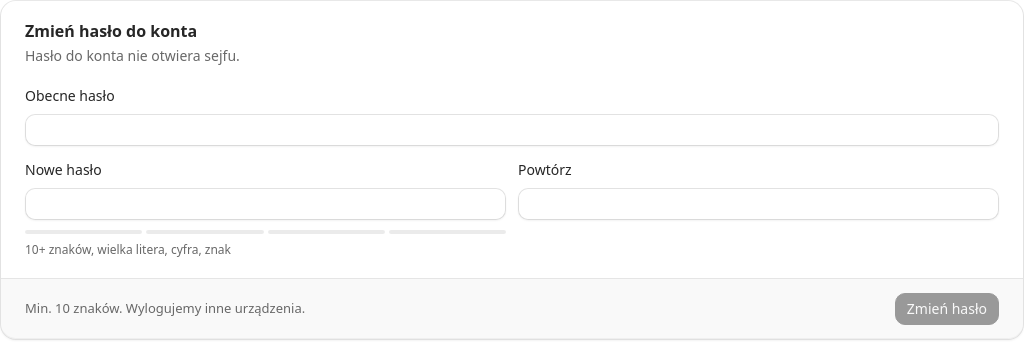
Test case: PasswordCard — konto z hasłem › siła „abc” → Za krótkie hasło (0 pasków)
Type "abc" into the password field labelled "Nowe hasło" at (266,204), box top-left (25, 188), bottom-right (506, 220)
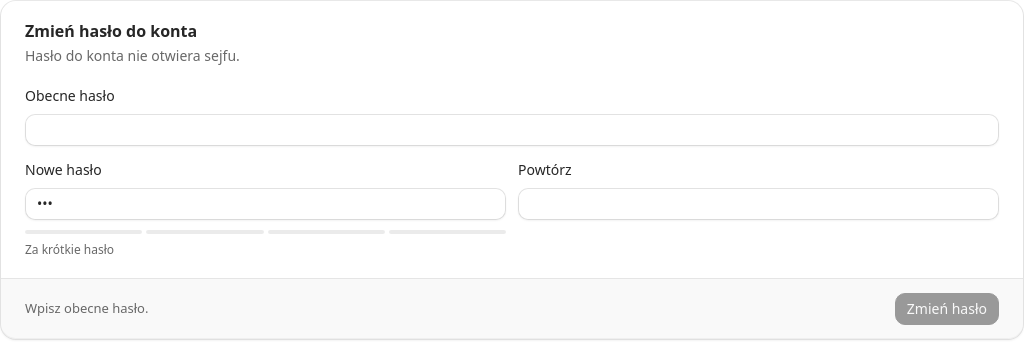
Check: the text "Za krótkie hasło" is shown, box top-left (25, 241), bottom-right (114, 258)
